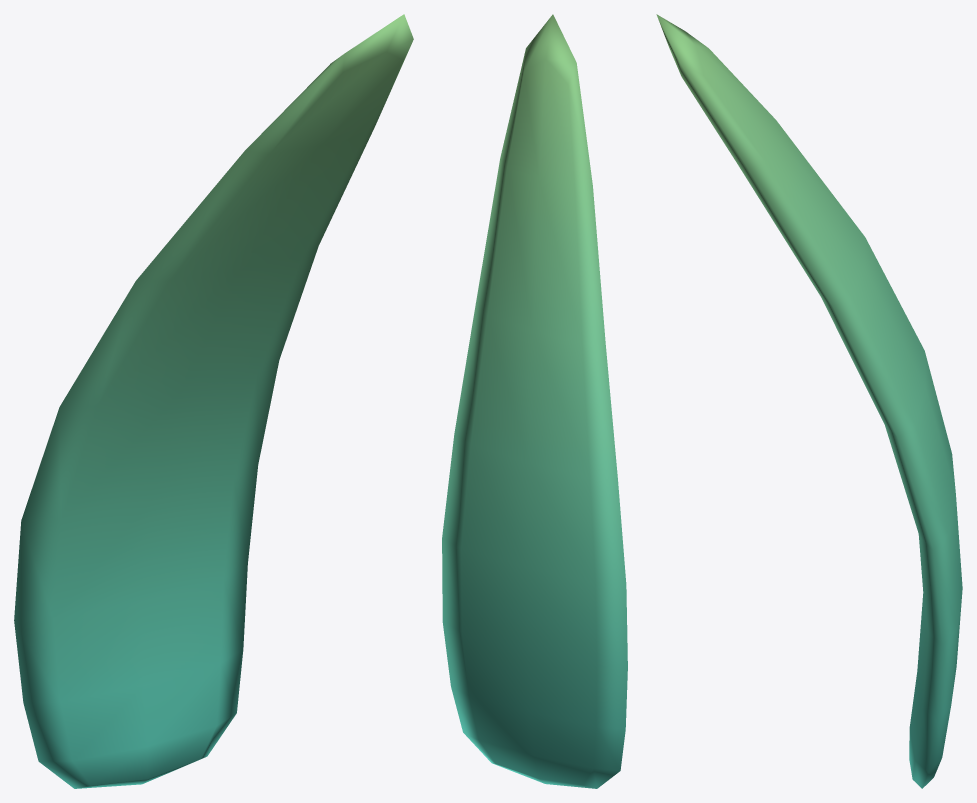
Rendered from Grass 2.fbx.
The picture shows the model from 3 angles, left to right: view 1: azimuth 30°, elevation 25°; view 2: azimuth 150°, elevation 25°; view 3: azimuth 270°, elevation 25°; orthographic projection. The views are drawn at different scales.
Parts seen in each view (by area): view 1: Grass 2; view 2: Grass 2; view 3: Grass 2.
Part boxes in pixels (x1,y1,x2,y2): Grass 2: [14, 14, 413, 788]; Grass 2: [442, 14, 627, 788]; Grass 2: [656, 14, 962, 788].
Size of the model in its own units: 0.0526 by 0.1598 by 0.0545.
